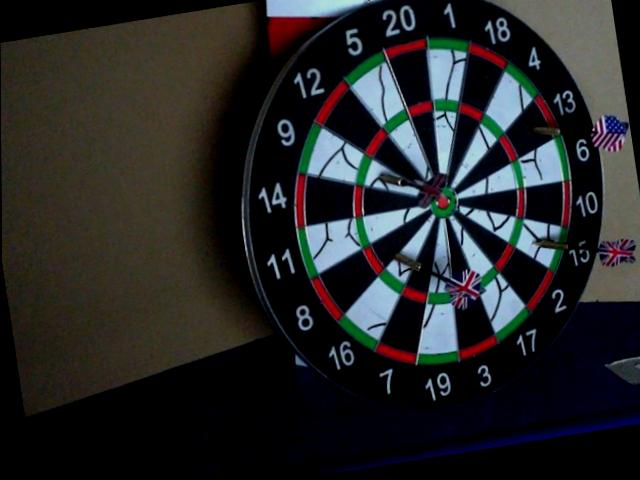single_13: (517, 110, 552, 153)
single_15: (519, 222, 566, 264)
single_8: (379, 215, 429, 258)
single_9: (367, 162, 420, 197)
